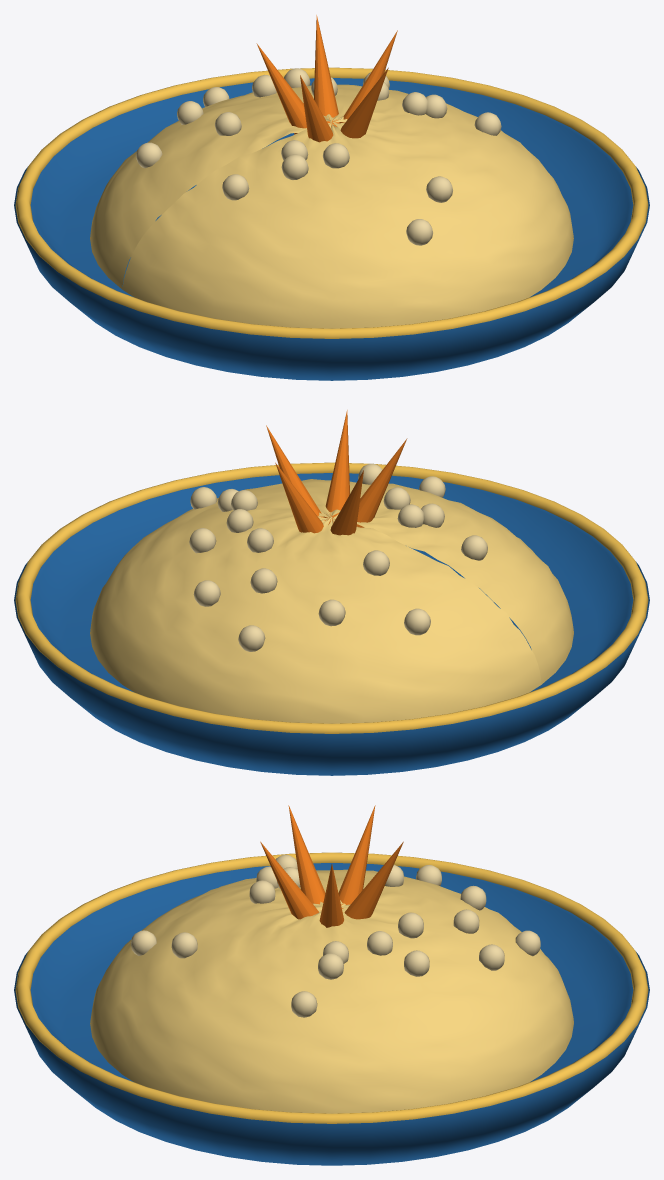
File: couscous.glb
3 views of the same model, one above another, from view 1: azimuth 30°, elevation 25°; view 2: azimuth 150°, elevation 25°; view 3: azimuth 270°, elevation 25° (orthographic).
Visible parts, largest first — view 1: grains, plate, chickpeas, carrot; view 2: grains, plate, chickpeas, carrot; view 3: grains, plate, chickpeas, carrot.
Part boxes in pixels (x1,y1,x2,y2): grains: (90,84,573,328); plate: (14,67,649,380); chickpeas: (136,68,501,245); carrot: (256,15,397,142); grains: (90,479,573,723); plate: (14,462,649,775); chickpeas: (189,463,487,651); carrot: (266,410,407,535); grains: (90,869,573,1113); plate: (14,852,649,1165); chickpeas: (131,854,540,1017); carrot: (260,805,403,927).
Size of the model in its own units: 2.1 by 0.802 by 2.1.
